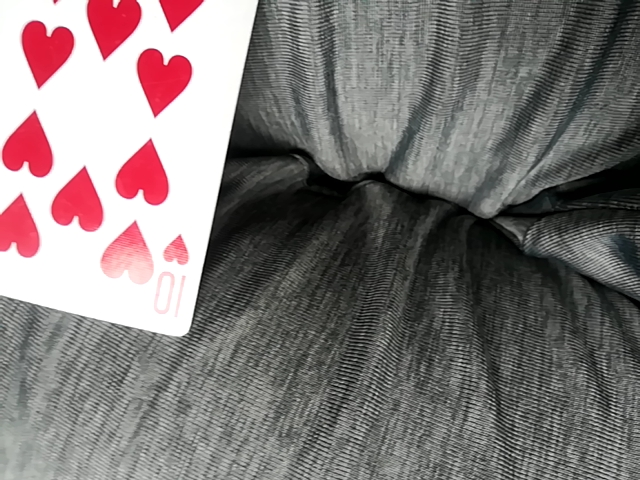hx 10: (0, 1, 258, 342)
